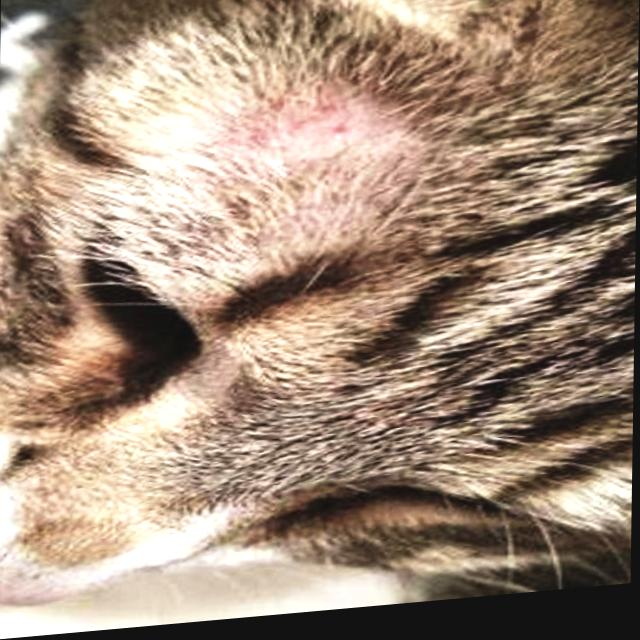ringworm: (214, 86, 369, 168)
